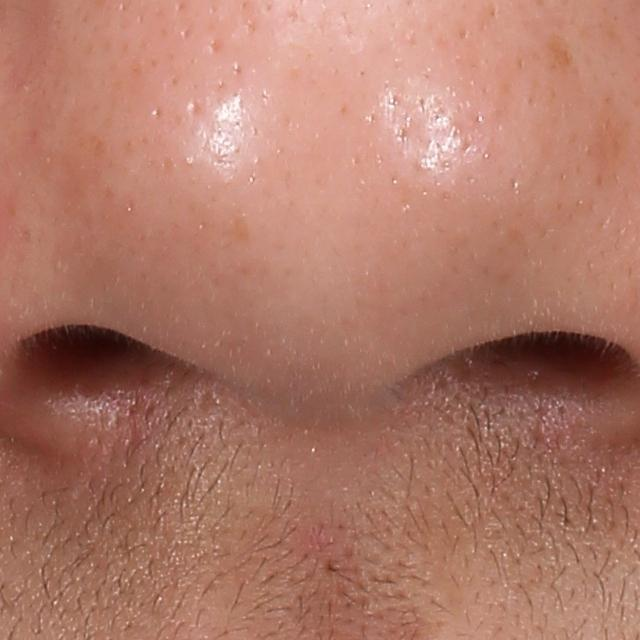melasma: (582, 106, 631, 184), (546, 30, 579, 75)
